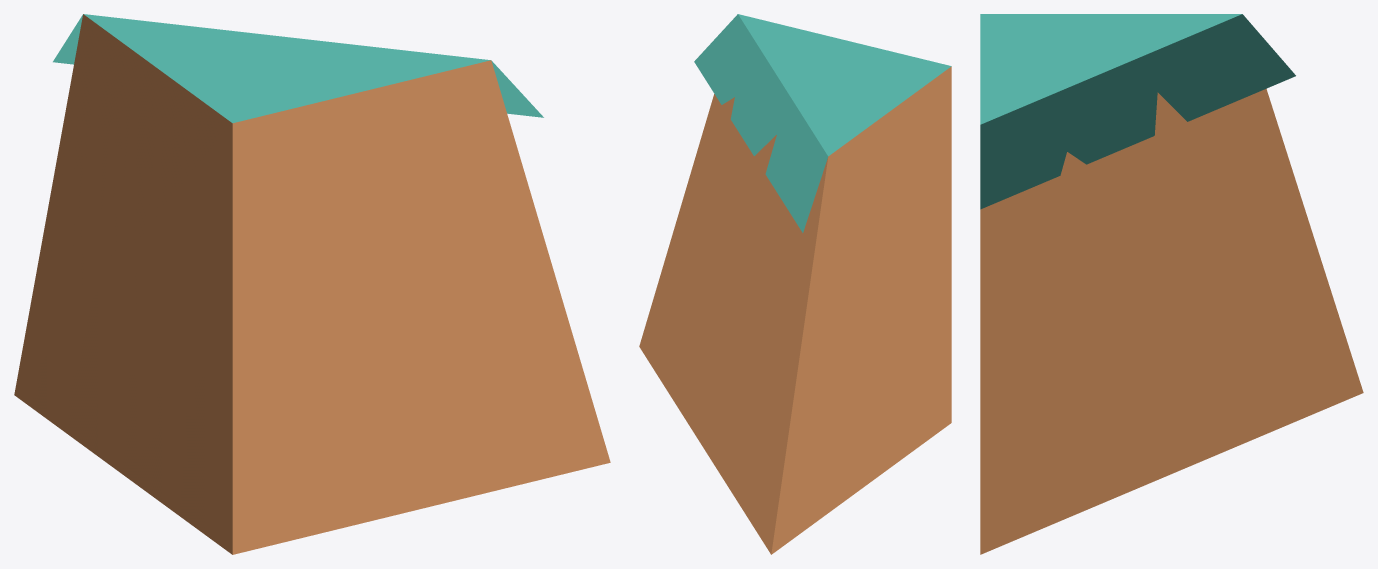
File: cliffBrown_halfCorner.obj
The picture shows the model from 3 angles, left to right: view 1: azimuth 30°, elevation 25°; view 2: azimuth 150°, elevation 25°; view 3: azimuth 270°, elevation 25°; orthographic projection. The views are drawn at different scales.
Parts seen in each view (by area): view 1: cliffBrown_halfCorner; view 2: cliffBrown_halfCorner; view 3: cliffBrown_halfCorner.
Boxes of the visible parts, x1,y1,x2,y2 form: cliffBrown_halfCorner: (14,14,610,554); cliffBrown_halfCorner: (639,14,951,554); cliffBrown_halfCorner: (980,14,1363,554).
Size of the model in its own units: 4.58 by 5 by 4.58.
